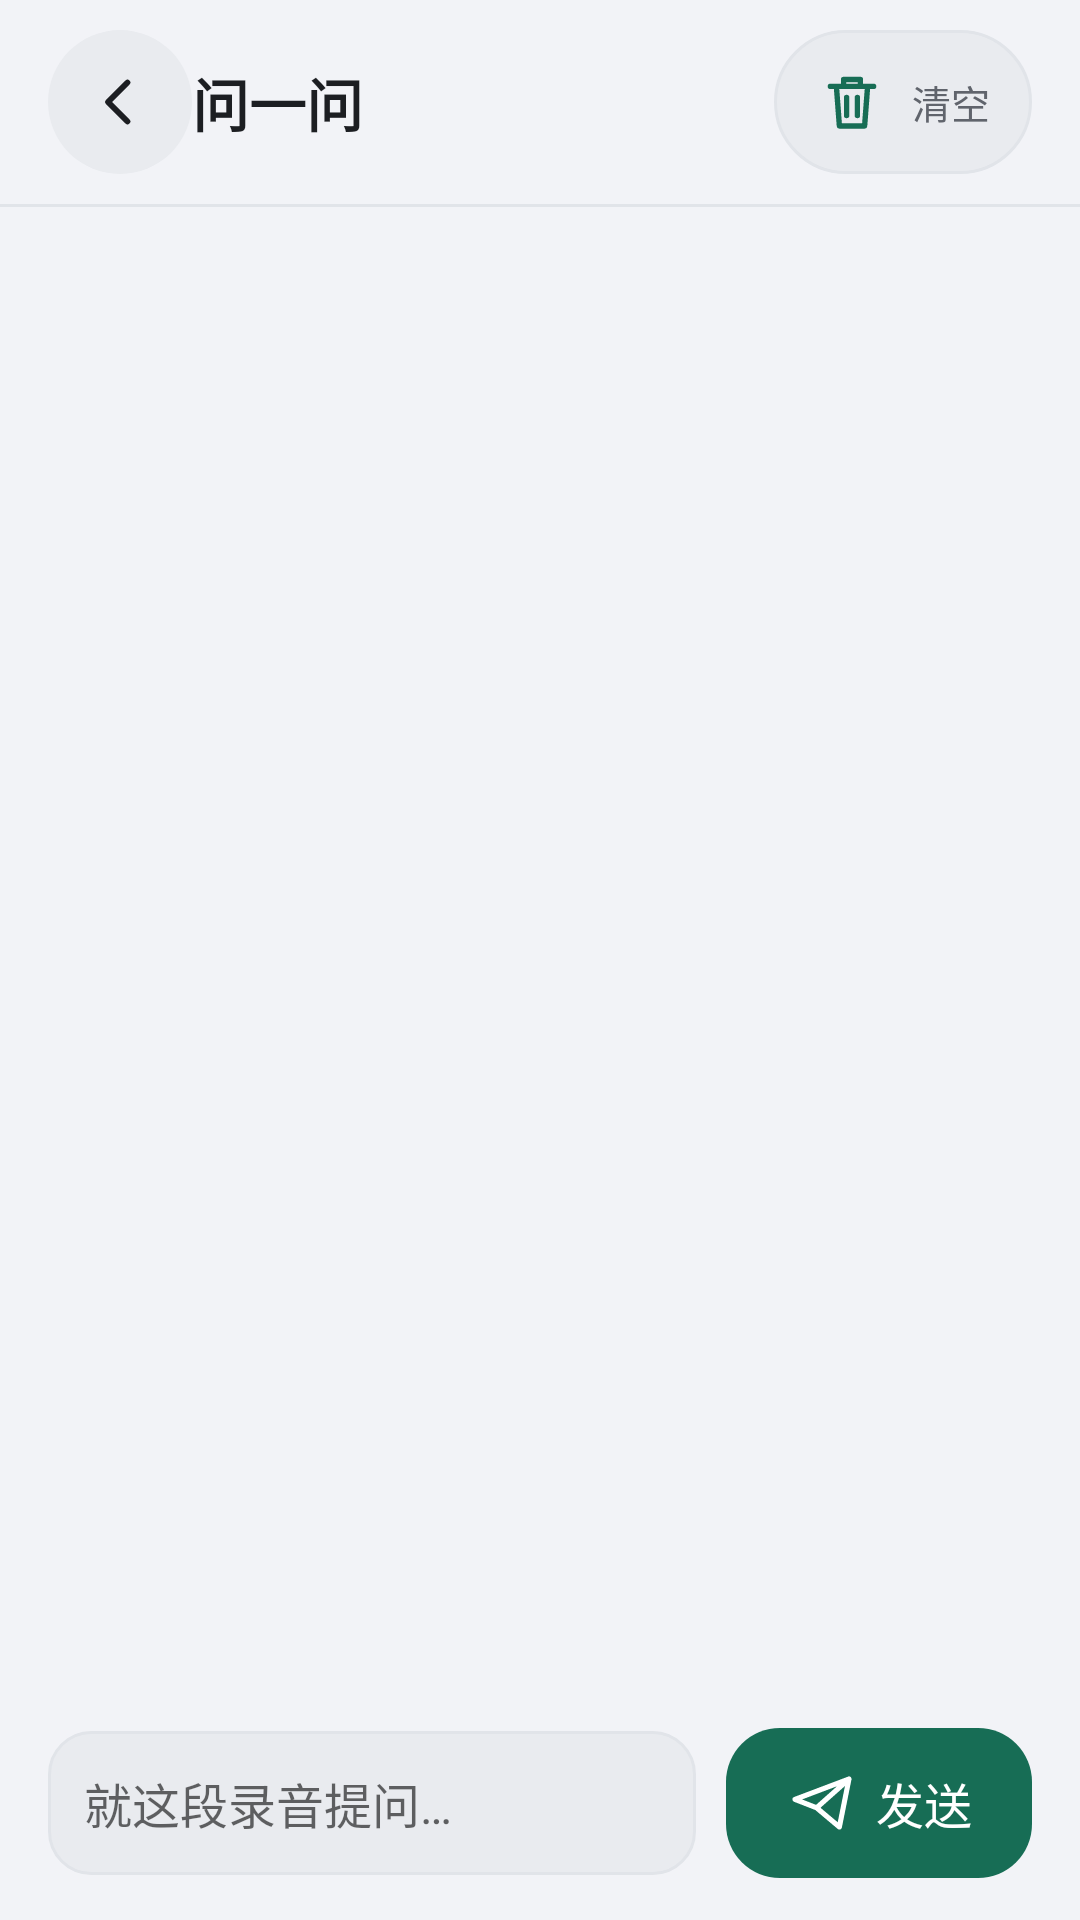

Where to tap for icons on this 1080 x 1920 app screen, as point (x, y):
返回: point (120, 102)
